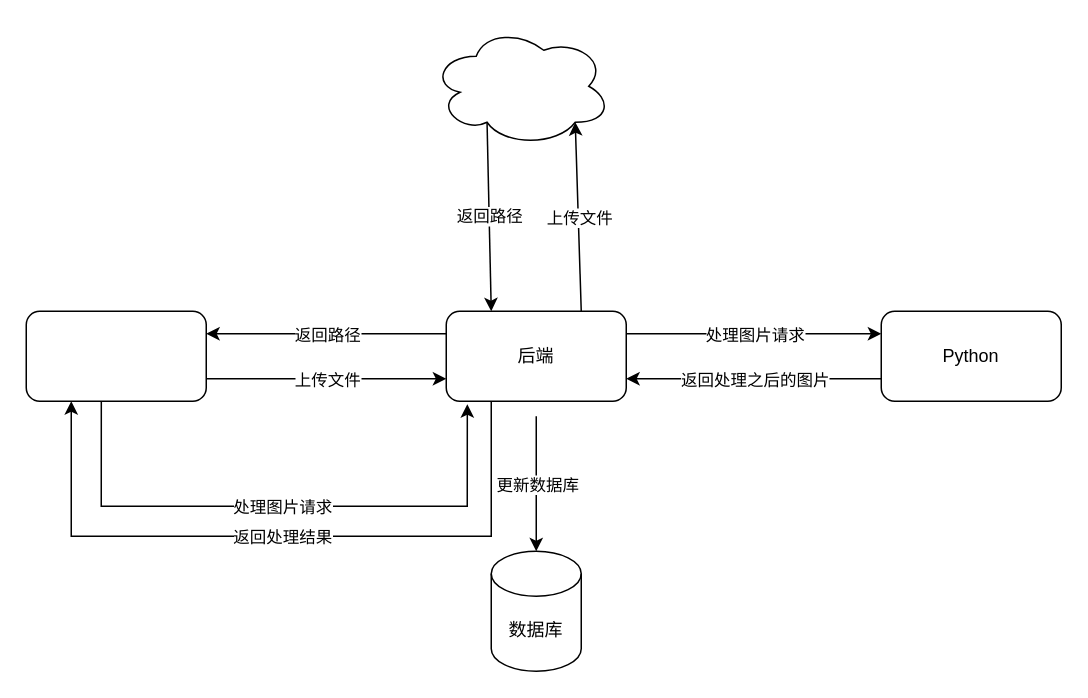
This 1088x698 diagram has some shape labels left out. Here are the shapes that lost their labels. From the top down, the centre of each, then its label:
At point (520, 85): "七牛云".
At point (115, 355): "前端".
